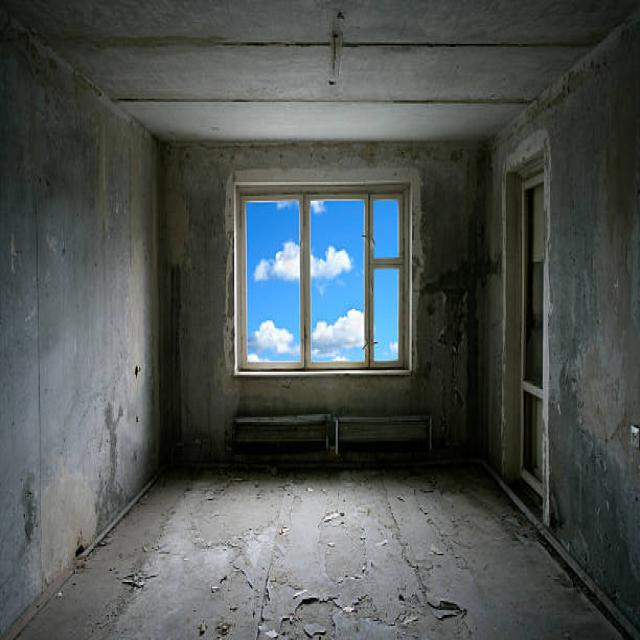floor: (0, 460, 640, 640)
wall: (159, 140, 491, 469), (0, 7, 165, 640), (491, 6, 640, 629), (233, 180, 414, 376)
